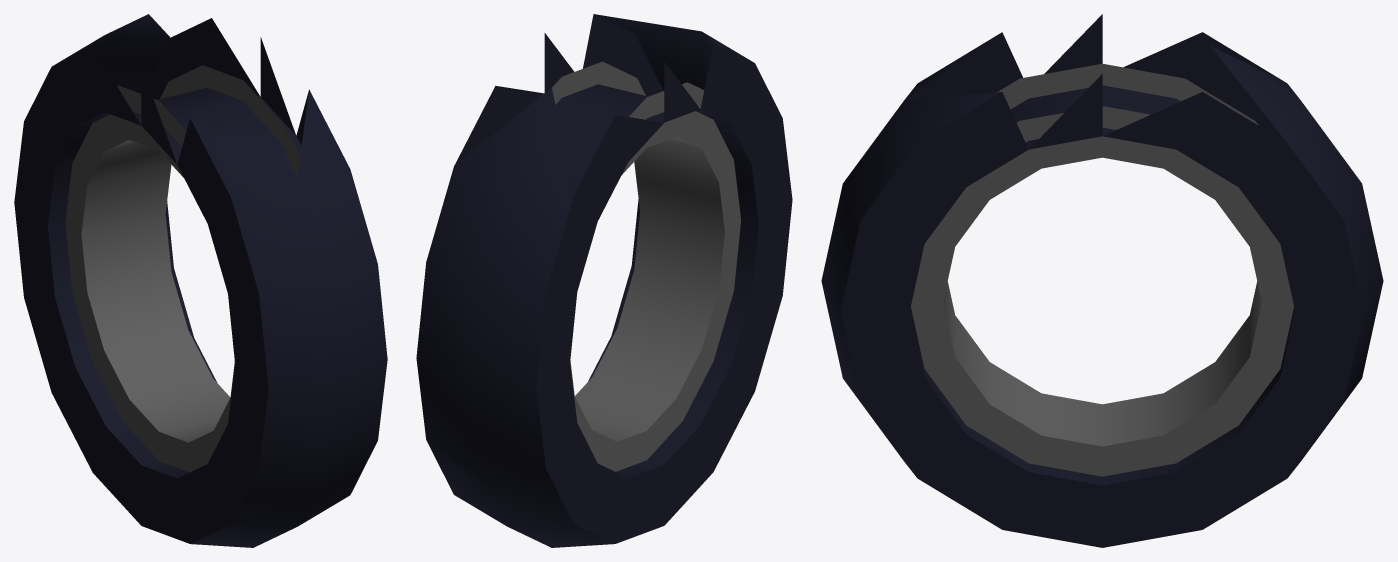
File: wheelR.glb
3 renders of one model, left to right at view 1: azimuth 30°, elevation 25°; view 2: azimuth 150°, elevation 25°; view 3: azimuth 270°, elevation 25°, orthographic. The views are drawn at different scales.
Visible parts, largest first — view 1: Tyre.038_Texture_0; view 2: Tyre.038_Texture_0; view 3: Tyre.038_Texture_0.
Boxes of the visible parts, left/top/right/bottom form: Tyre.038_Texture_0: left=14, top=14, right=387, bottom=547; Tyre.038_Texture_0: left=416, top=14, right=792, bottom=547; Tyre.038_Texture_0: left=821, top=14, right=1383, bottom=547.
Bounding box in the file's own units: 1.14 × 4.37 × 4.53.
1 material, 1 textured.
